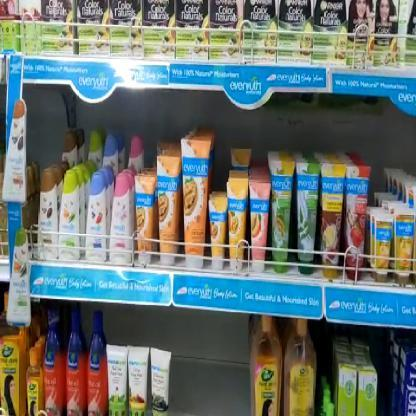Everyuth Naturals Body Lotion Nourishing Cocoa 200ml: (36, 166, 58, 264)
Everyuth Naturals Body Lotion Rejuvenating Flora 200ml: (110, 174, 132, 263)
Everyuth Naturals Body Lotion Soothing Citrus 200ml: (59, 170, 82, 260)
Everyuth Naturals Body Lotion Sun Care Berries SPF 15 200ml: (86, 172, 107, 262)
